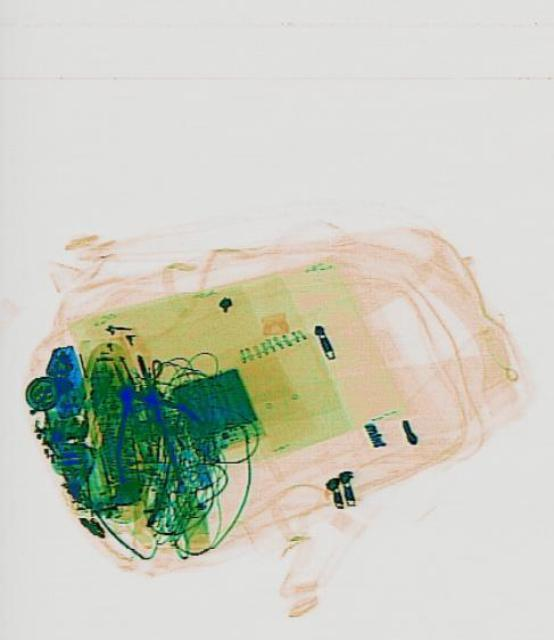Pliers: (69, 337, 204, 479)
